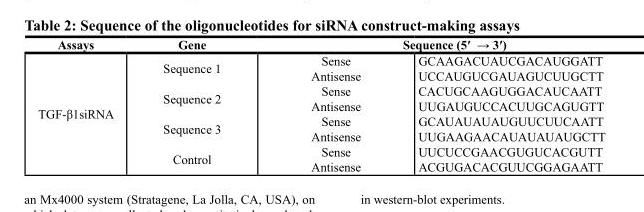table: (37, 36, 604, 173)
table column: (388, 36, 604, 173), (137, 36, 265, 173), (265, 36, 388, 173), (37, 36, 137, 173)
table column header: (37, 36, 604, 173)
table row: (37, 52, 604, 173), (37, 36, 604, 52)
table spanning cell: (137, 36, 265, 173), (37, 36, 137, 173), (265, 36, 604, 52)
